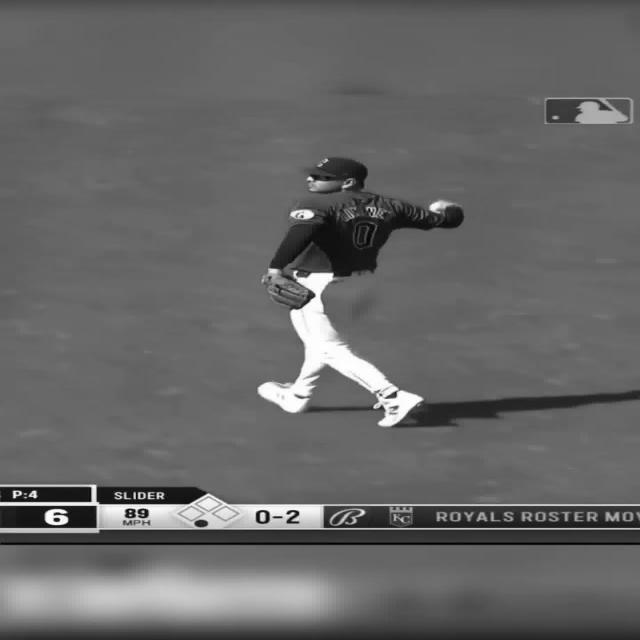baseball: (428, 200, 453, 212)
baseball_glove: (260, 272, 315, 310)
shoe: (372, 388, 424, 428), (256, 381, 310, 413)
